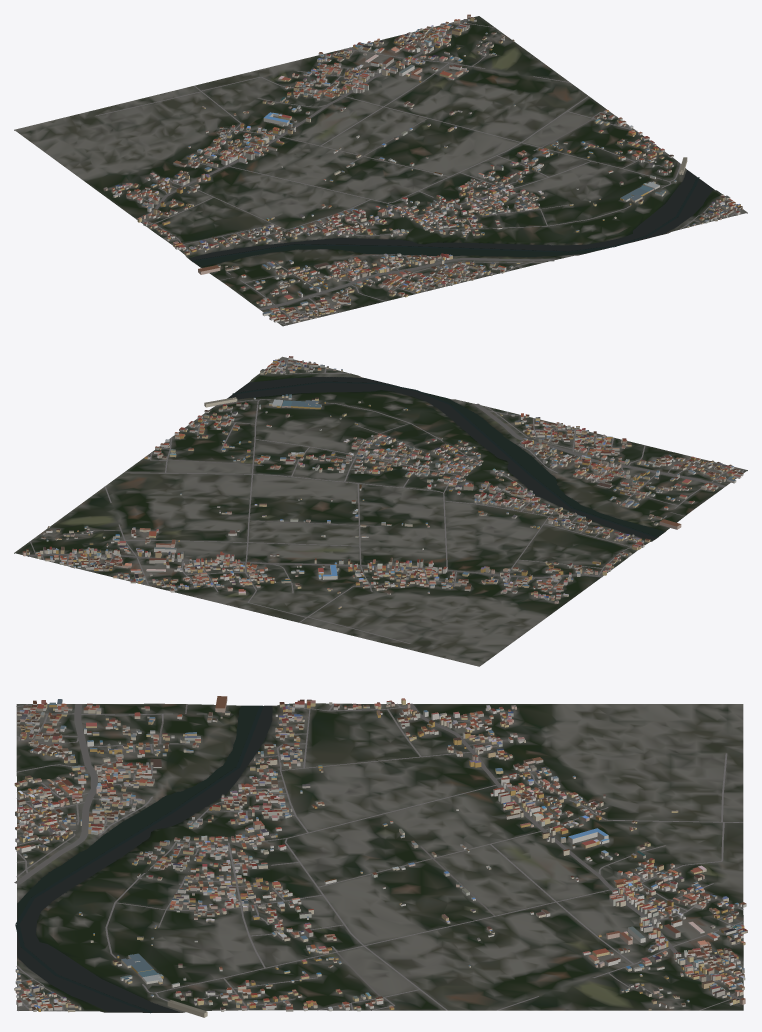
3 views of the same model, one above another, from view 1: azimuth 30°, elevation 25°; view 2: azimuth 150°, elevation 25°; view 3: azimuth 270°, elevation 25° (orthographic). The views are drawn at different scales.
Visible parts, largest first — view 1: ground, buildings, water, roads; view 2: ground, buildings, water, roads; view 3: ground, buildings, water, roads.
Boxes of the visible parts, bbox=[...] form: ground: bbox=[14, 16, 747, 326]; buildings: bbox=[103, 14, 742, 323]; water: bbox=[189, 170, 713, 266]; roads: bbox=[95, 19, 747, 325]; ground: bbox=[14, 356, 747, 666]; buildings: bbox=[22, 356, 743, 608]; water: bbox=[227, 376, 663, 540]; roads: bbox=[27, 357, 744, 643]; ground: bbox=[16, 703, 743, 1012]; buildings: bbox=[14, 696, 747, 1017]; water: bbox=[15, 705, 272, 1013]; roads: bbox=[14, 703, 743, 1011].
Bounding box in the file's own units: 1451 × 24.08 × 1416.
